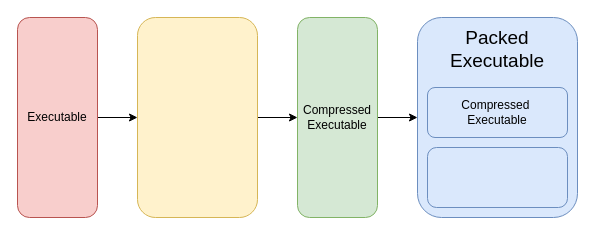
This 595x235 diagram has some shape labels left out. Each missing label, with the centre of its shape:
"Compression Algorithm" goes at pixel 197 117.
"Decompression Algorithm" goes at pixel 497 177.
